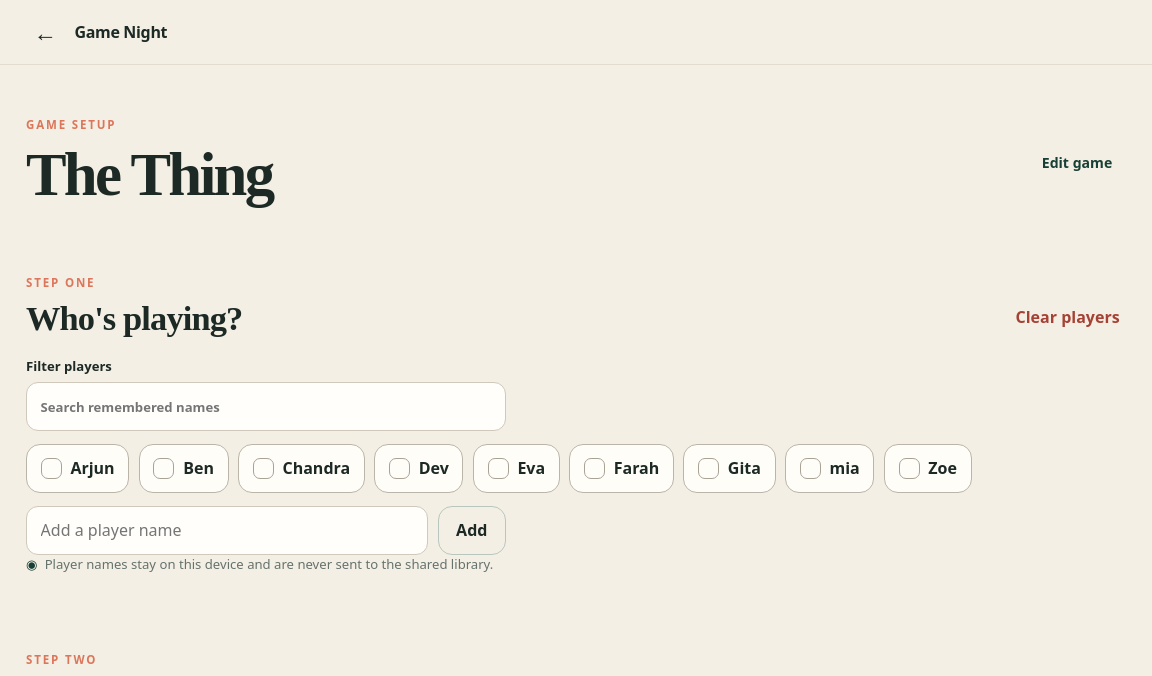
Test: local setup controls › explains when no different constrained reshuffle exists
Click the button "Arjun": (78, 468) [26,444,129,493]
(page scrolled)
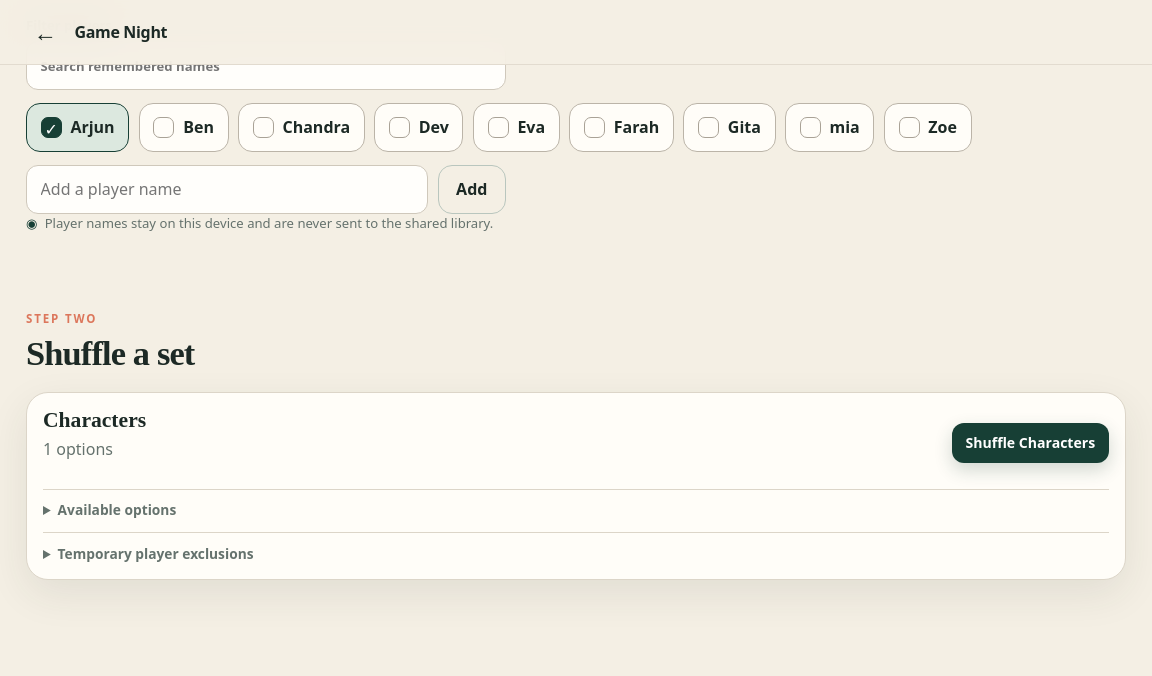
Click the button "Shuffle Characters": (1030, 443) [952,423,1109,463]
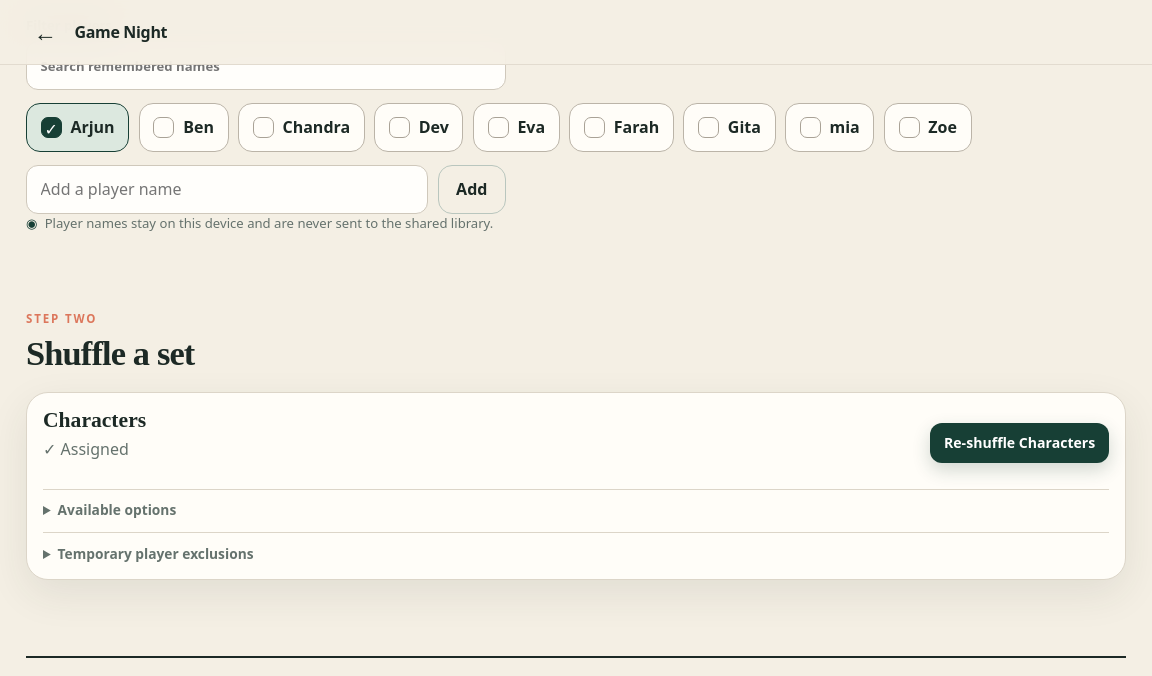
Click the button "Re-shuffle Characters": (1020, 443) [930,423,1109,463]
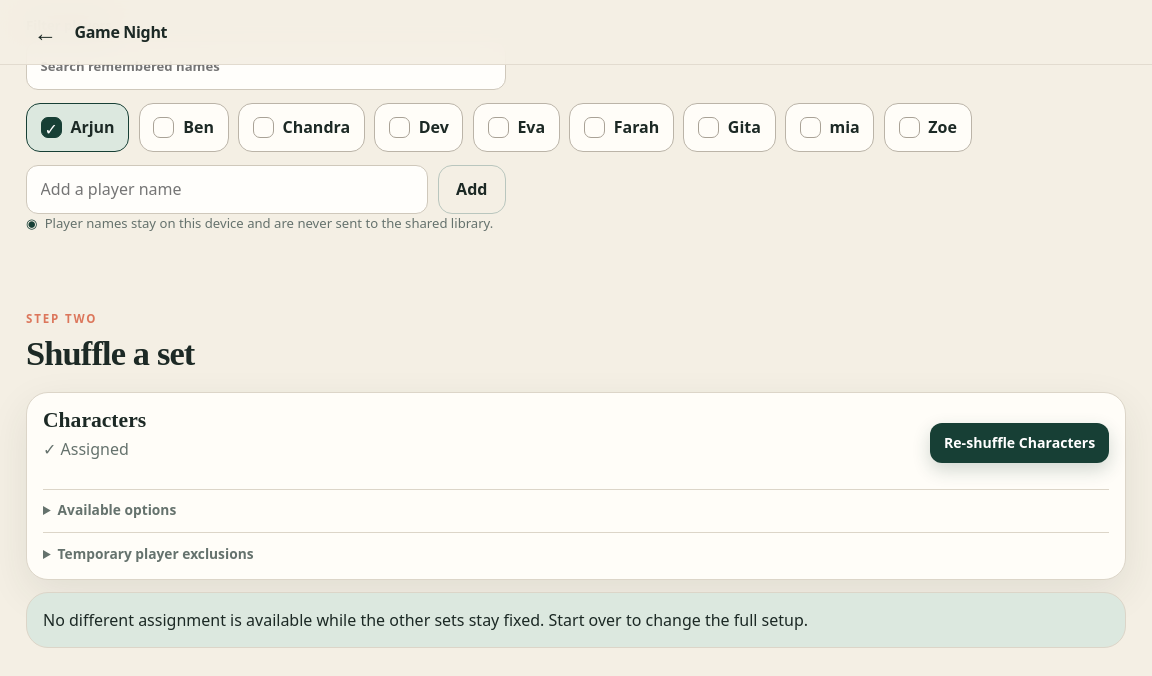
Now the message shows "No different assignment is available while the other sets stay fixed", box [43,609,808,631]
